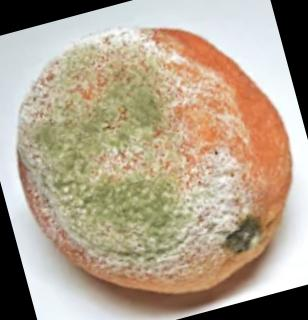Orange Rotten: (11, 22, 305, 303)
